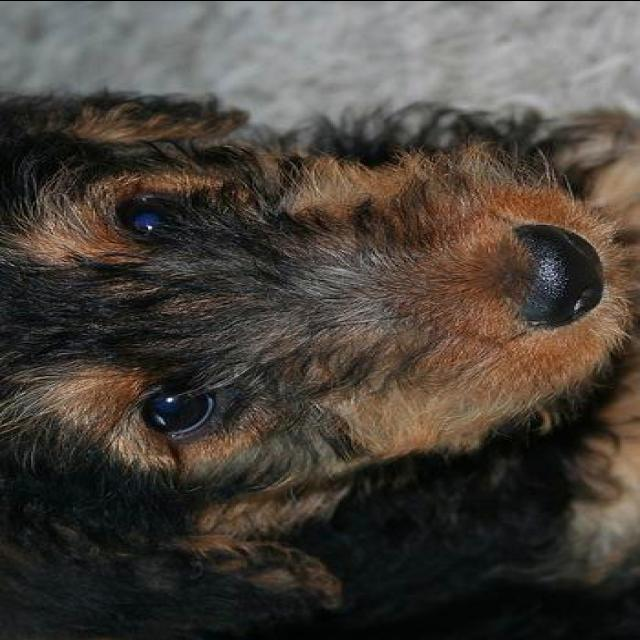airedale: (0, 84, 638, 638)
